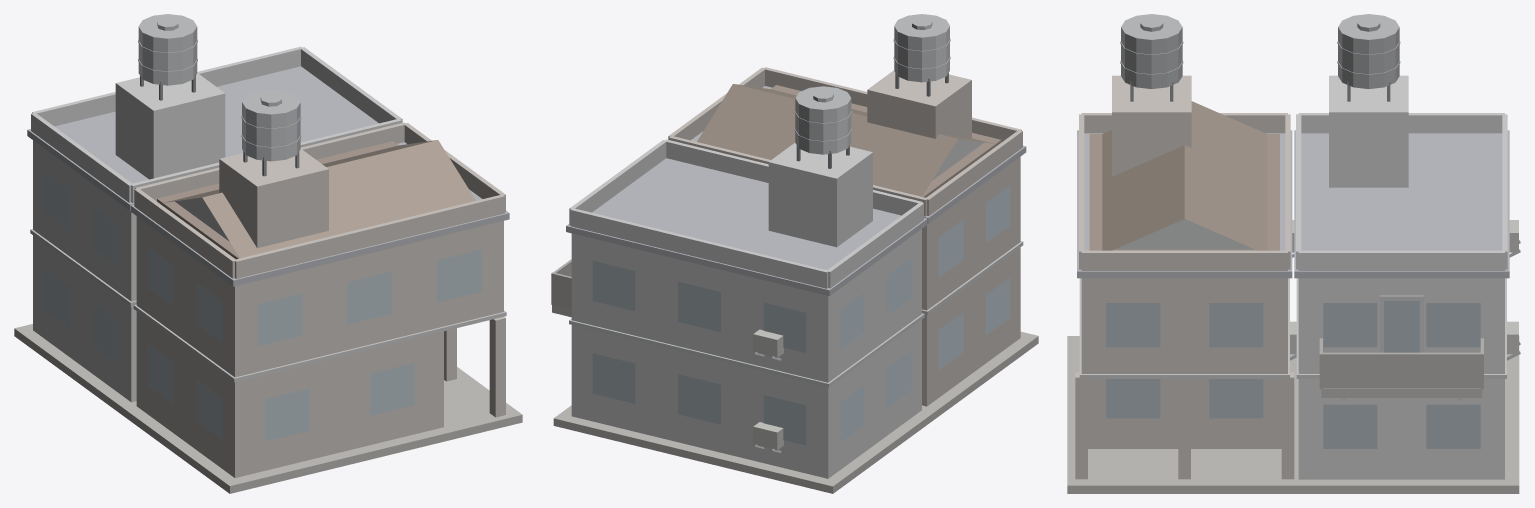
File: 07_residential_low-09.glb
3 renders of one model, left to right at view 1: azimuth 30°, elevation 25°; view 2: azimuth 150°, elevation 25°; view 3: azimuth 270°, elevation 25°, orthographic. The views are drawn at different scales.
Bounding box in the file's own units: 10.45 × 11.07 × 12.54.
